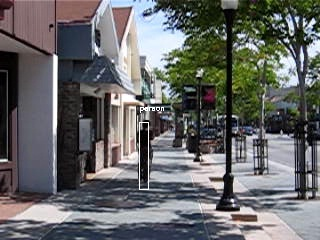person: (137, 120, 156, 182), (136, 120, 155, 182), (138, 120, 157, 182), (137, 119, 156, 181), (137, 121, 156, 183)
target_negative: (120, 136, 275, 238), (112, 159, 257, 217), (78, 209, 253, 228), (196, 172, 228, 187), (261, 201, 278, 217), (116, 227, 141, 237)
